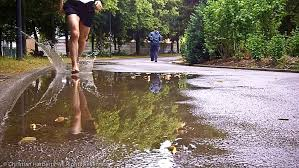person: (58, 1, 104, 76), (148, 24, 163, 63)
water: (1, 72, 197, 151)
